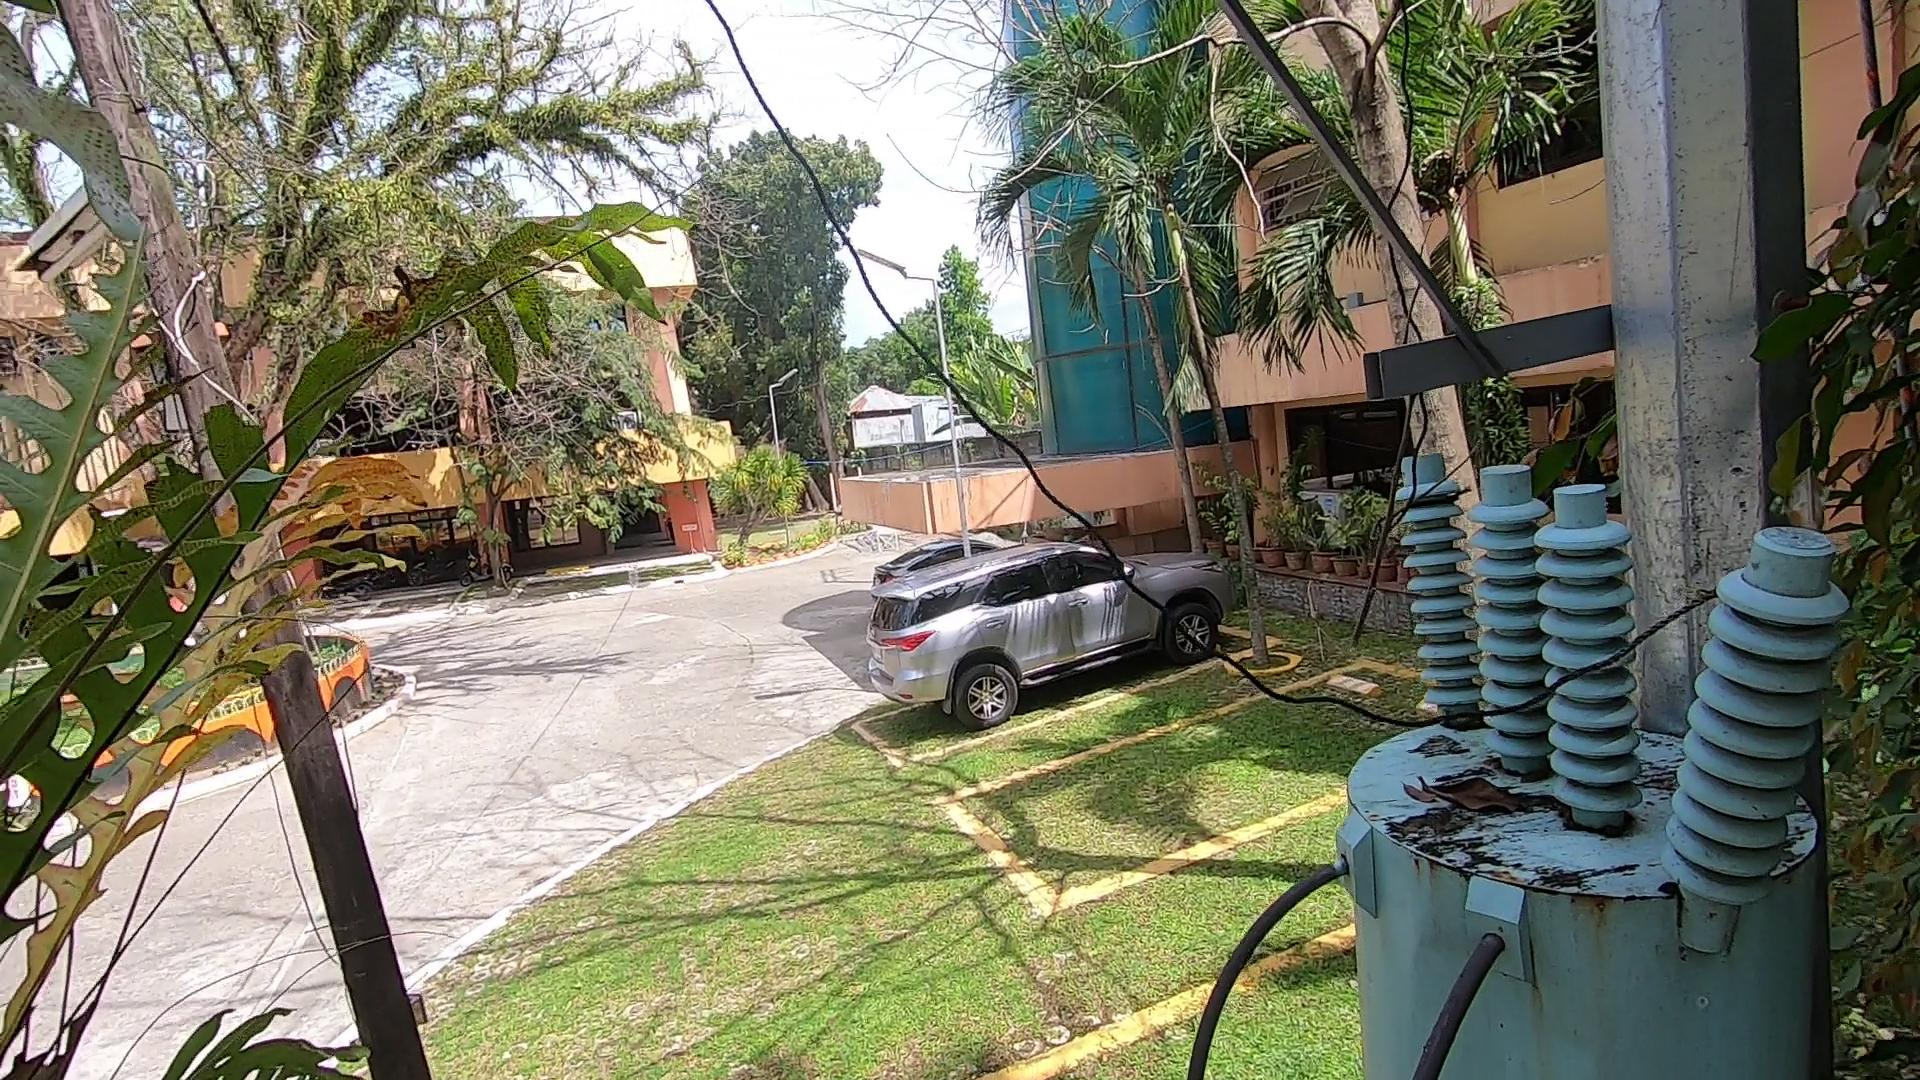leaf: (1399, 760, 1571, 827), (1427, 703, 1491, 746)
tree branch: (1308, 84, 1477, 655)
